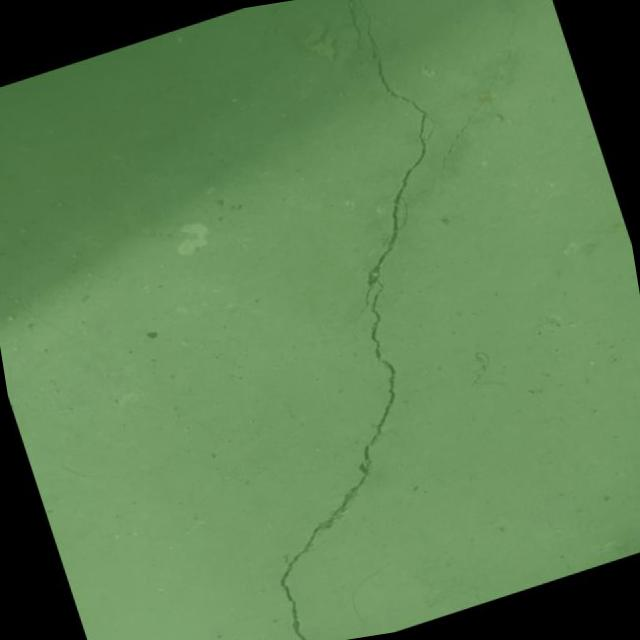crack: (102, 0, 588, 640), (384, 0, 563, 183), (254, 0, 296, 38)
